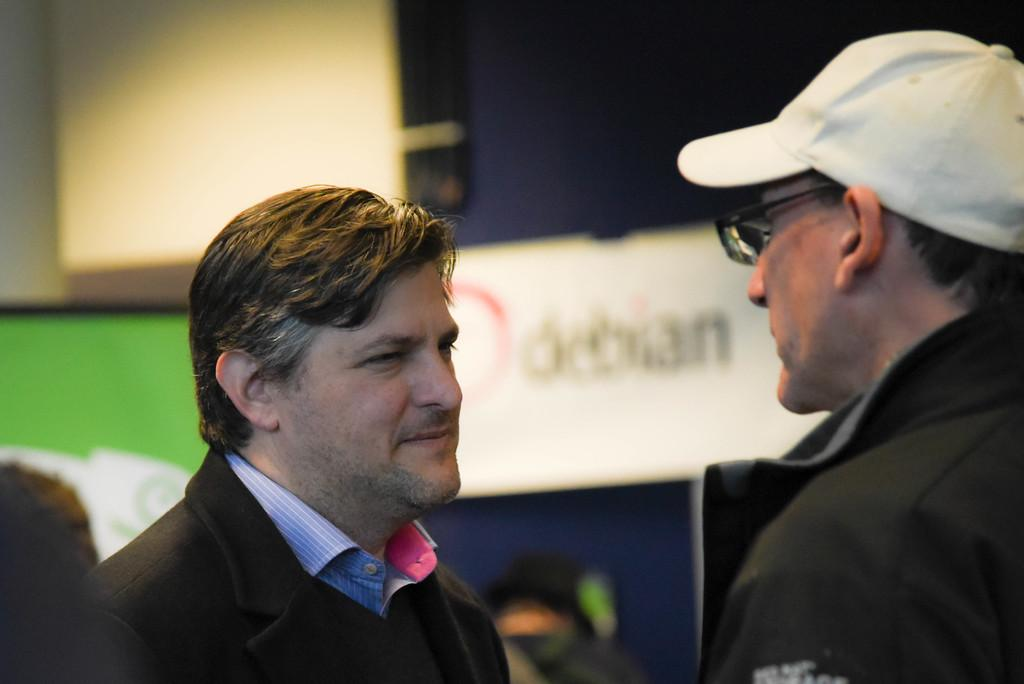Hat: (668, 18, 1022, 254)
